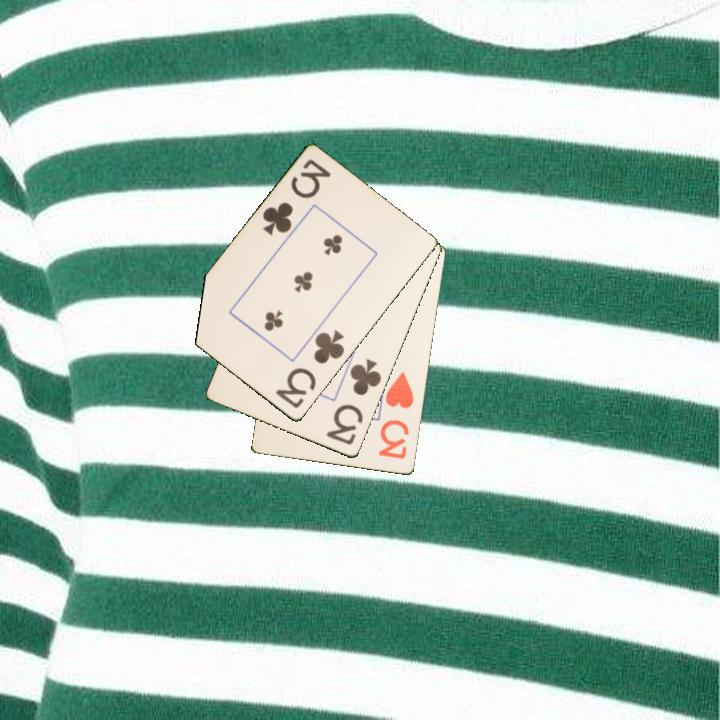3c: (272, 326, 347, 412), (259, 155, 334, 239), (323, 355, 384, 448)
3h: (375, 369, 417, 462)
